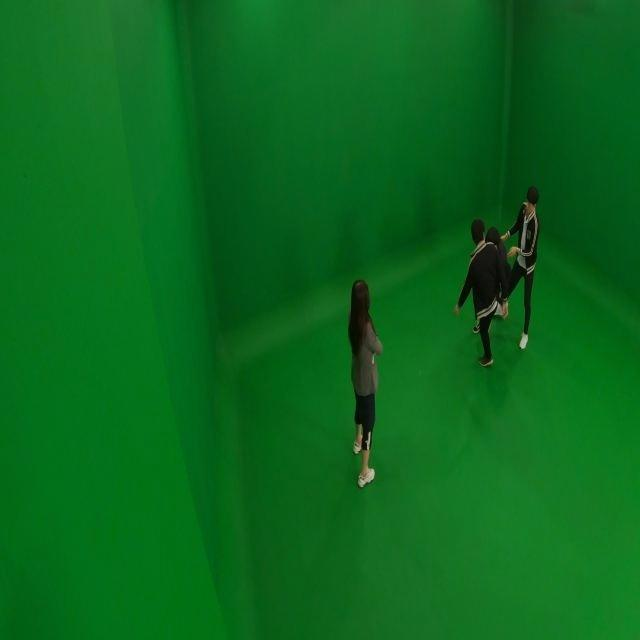fight: (453, 183, 541, 367)
non-fight: (345, 276, 384, 491)
